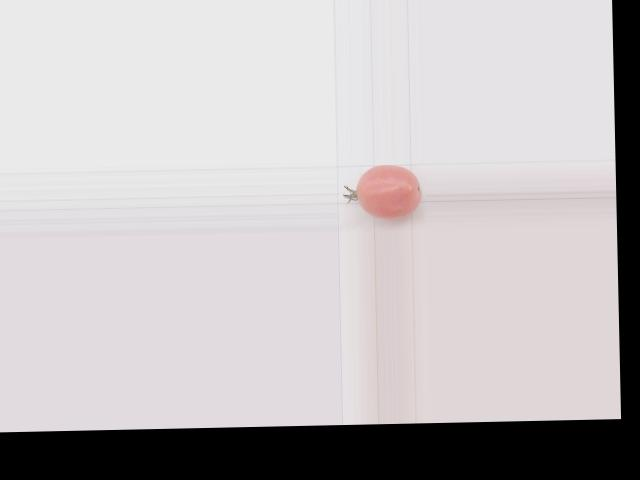tomato: (356, 164, 421, 219)
